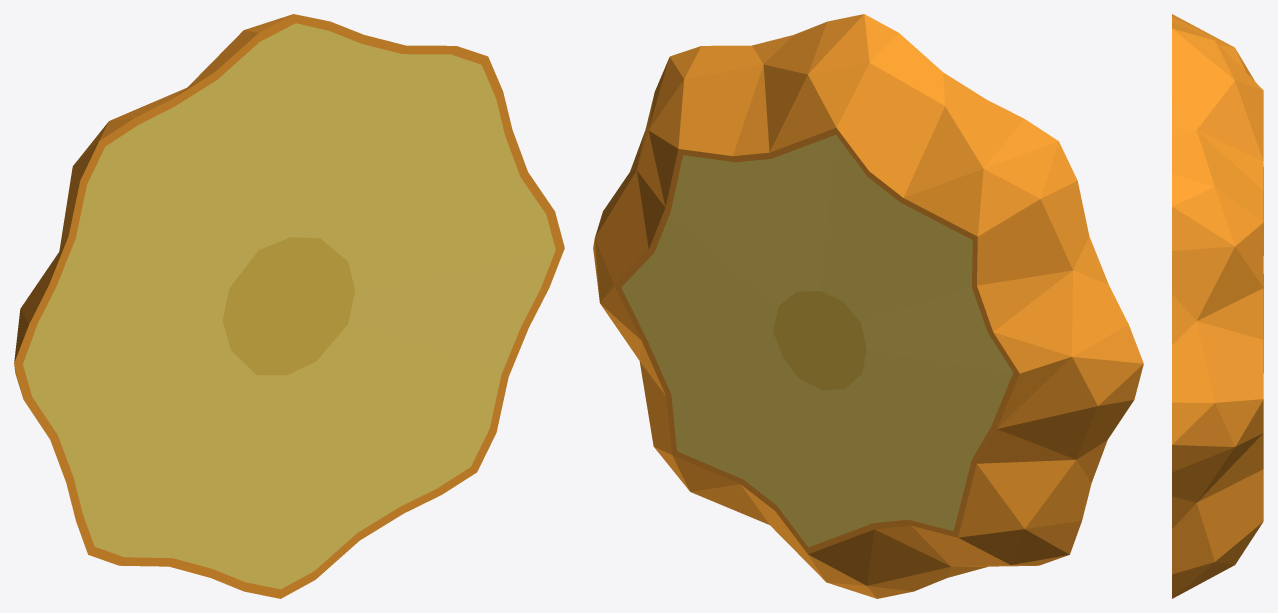
The model's file is Pineapple_Slice_02.fbx.
The picture shows the model from 3 angles, left to right: view 1: azimuth 30°, elevation 25°; view 2: azimuth 150°, elevation 25°; view 3: azimuth 270°, elevation 25°; orthographic projection. The views are drawn at different scales.
Parts seen in each view (by area): view 1: Pineapple_Slice_02; view 2: Pineapple_Slice_02; view 3: Pineapple_Slice_02.
Boxes of the visible parts, x1,y1,x2,y2 form: Pineapple_Slice_02: [14, 14, 564, 598]; Pineapple_Slice_02: [593, 14, 1143, 598]; Pineapple_Slice_02: [1172, 14, 1263, 598].
Size of the model in its own units: 0.1071 by 0.1081 by 0.0161.
